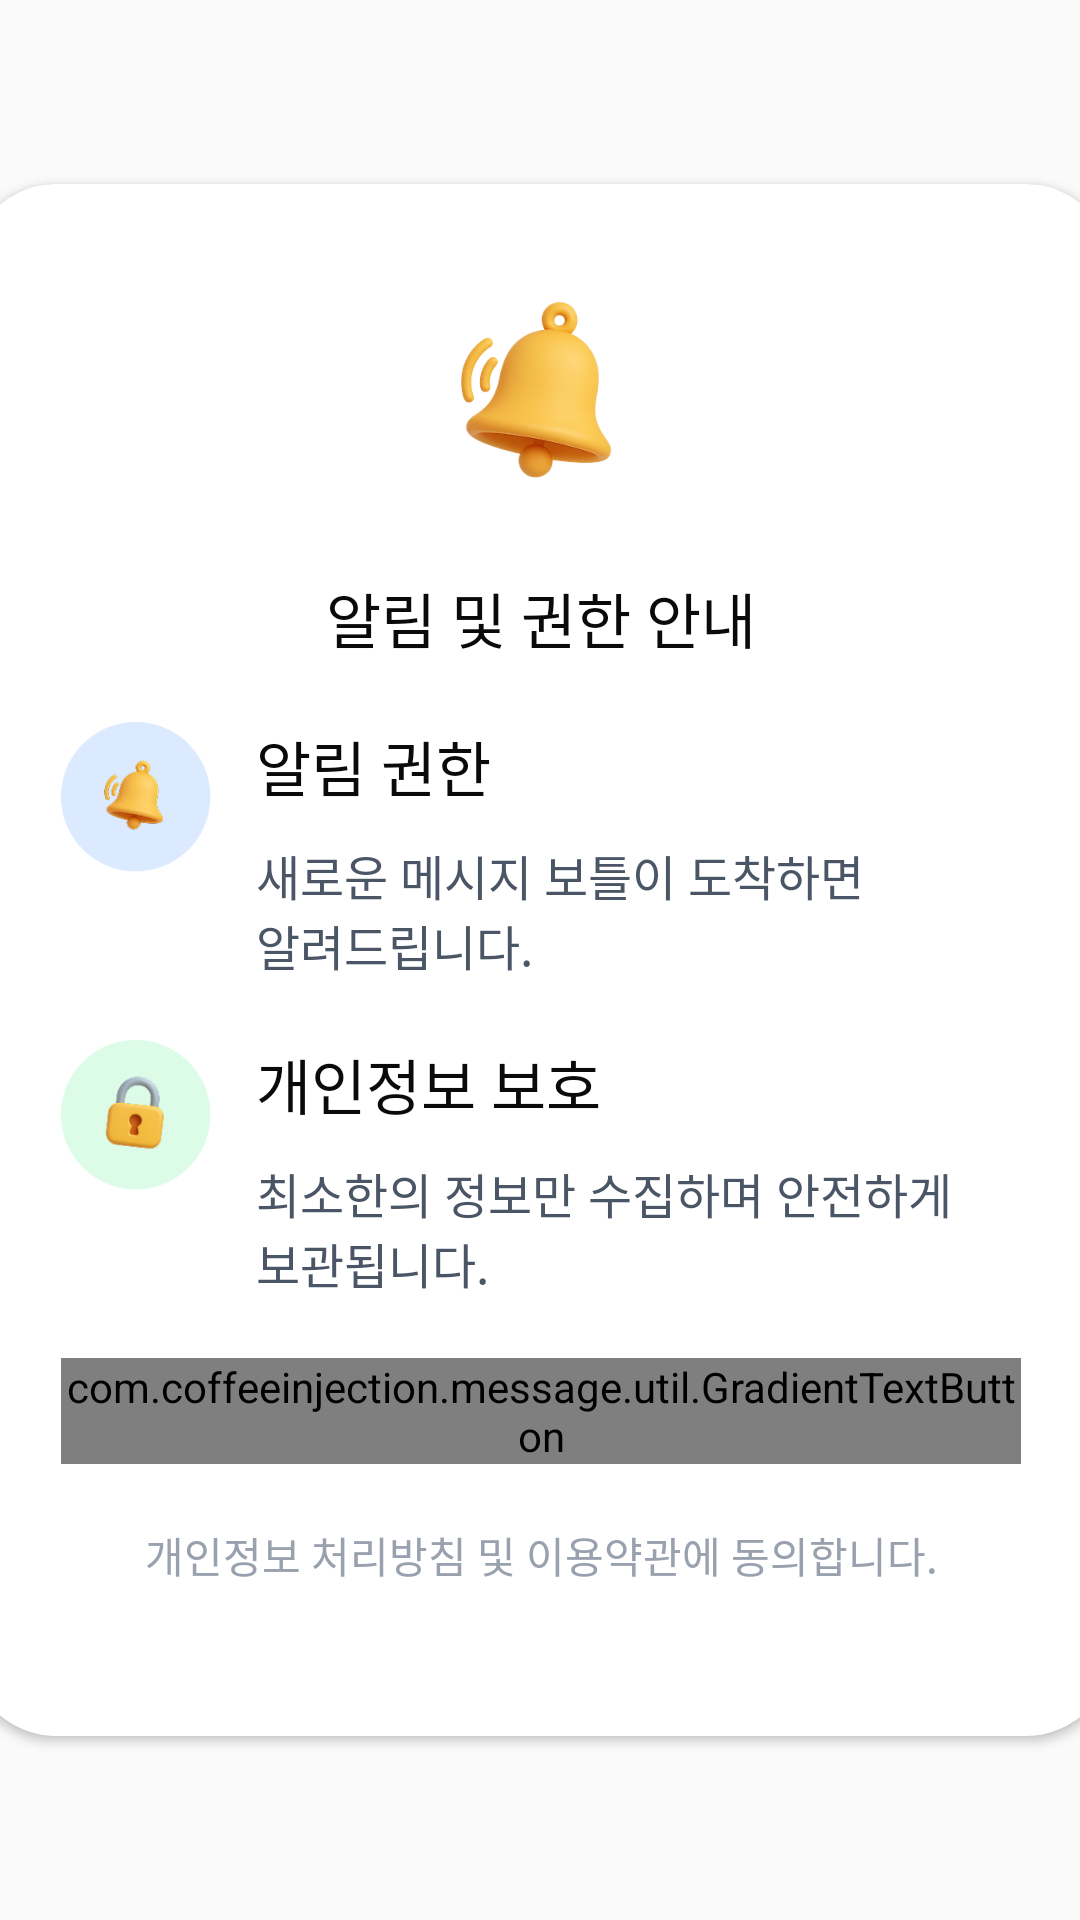

Screen size 1080px×1920px. Icon name, then its center in pixels as point (x, y):
bell: point (536, 390)
bell mini: point (135, 796)
lock mini: point (135, 1114)
